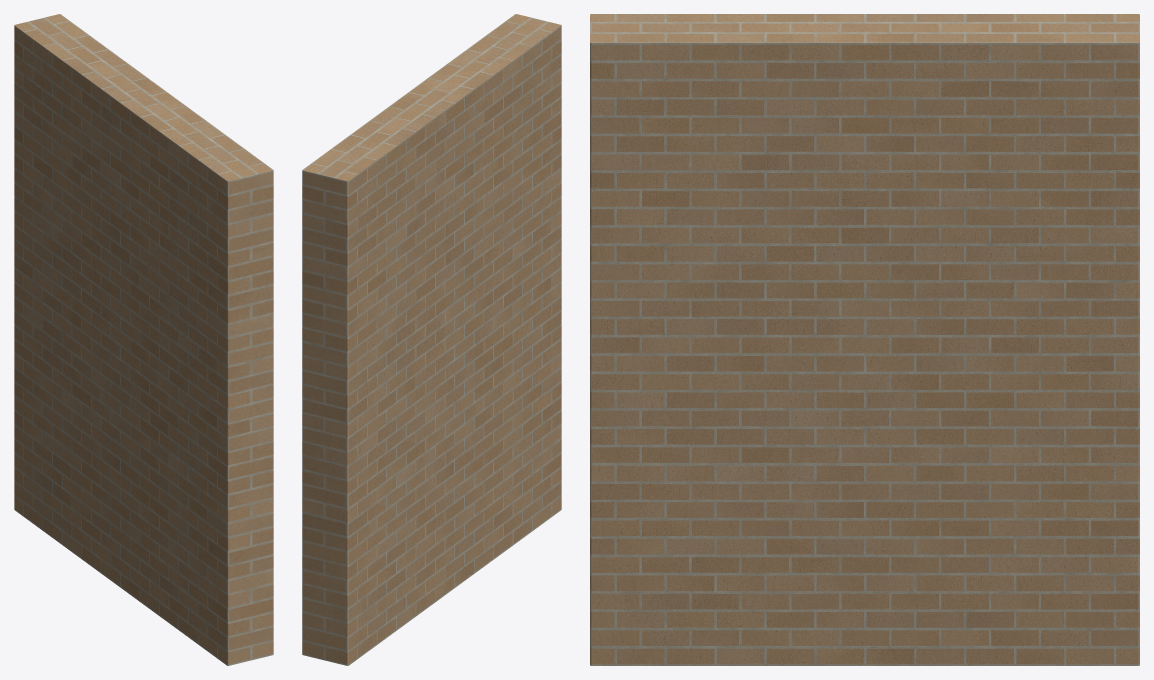
File: Wall.glb
3 renders of one model, left to right at view 1: azimuth 30°, elevation 25°; view 2: azimuth 150°, elevation 25°; view 3: azimuth 270°, elevation 25°, orthographic. The views are drawn at different scales.
Parts seen in each view (by area): view 1: Cube; view 2: Cube; view 3: Cube.
Part boxes in pixels (left/top/right/bottom): Cube: left=14, top=14, right=273, bottom=665; Cube: left=302, top=14, right=561, bottom=665; Cube: left=590, top=14, right=1139, bottom=665.
Size of the model in its own units: 0.2 by 2 by 1.6.
Materials: 1 (1 with a texture image).
